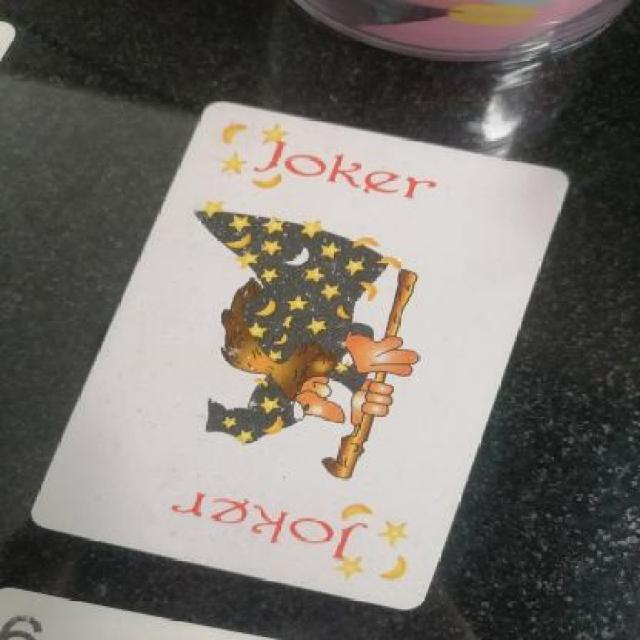BLACK JOKER: (124, 489, 431, 583), (188, 131, 472, 197)
